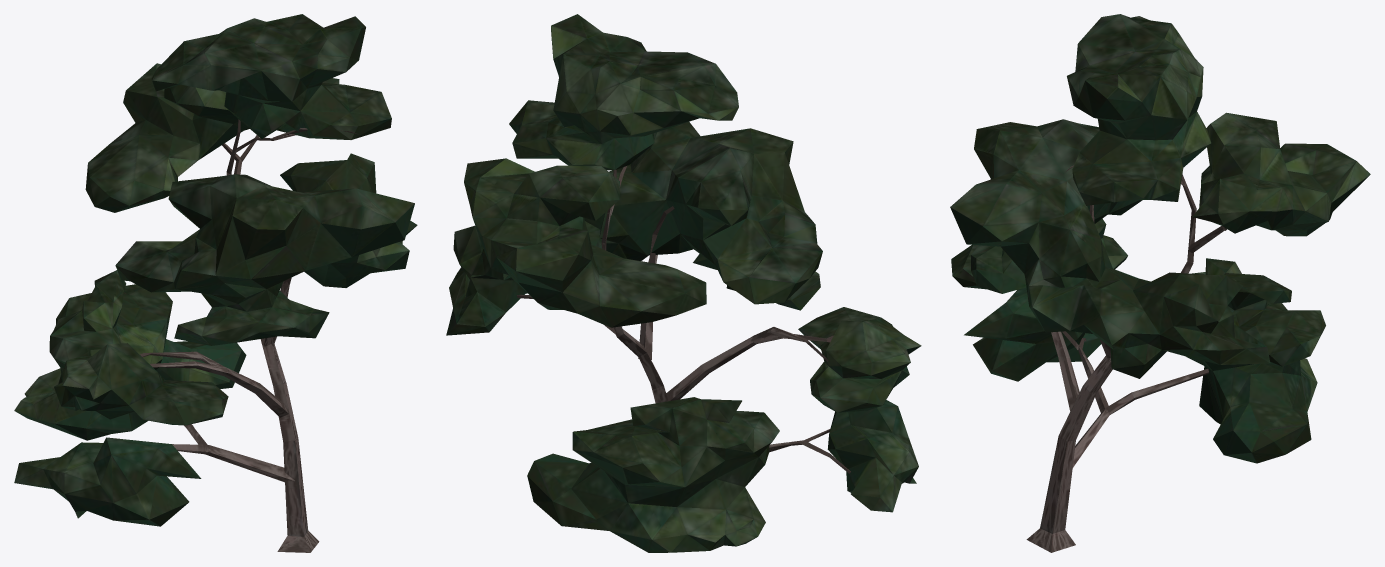
File: n_zypresse.glb
3 views of the same model, side by side, from view 1: azimuth 30°, elevation 25°; view 2: azimuth 150°, elevation 25°; view 3: azimuth 270°, elevation 25° (orthographic). The views are drawn at different scales.
Parts seen in each view (by area): view 1: tree; view 2: tree; view 3: tree.
Part boxes in pixels (left/top/right/bottom): tree: left=14, top=14, right=417, bottom=552; tree: left=446, top=14, right=921, bottom=552; tree: left=950, top=14, right=1370, bottom=552.
Size of the model in its own units: 1286 by 1518 by 1148.
1 material, 1 textured.
